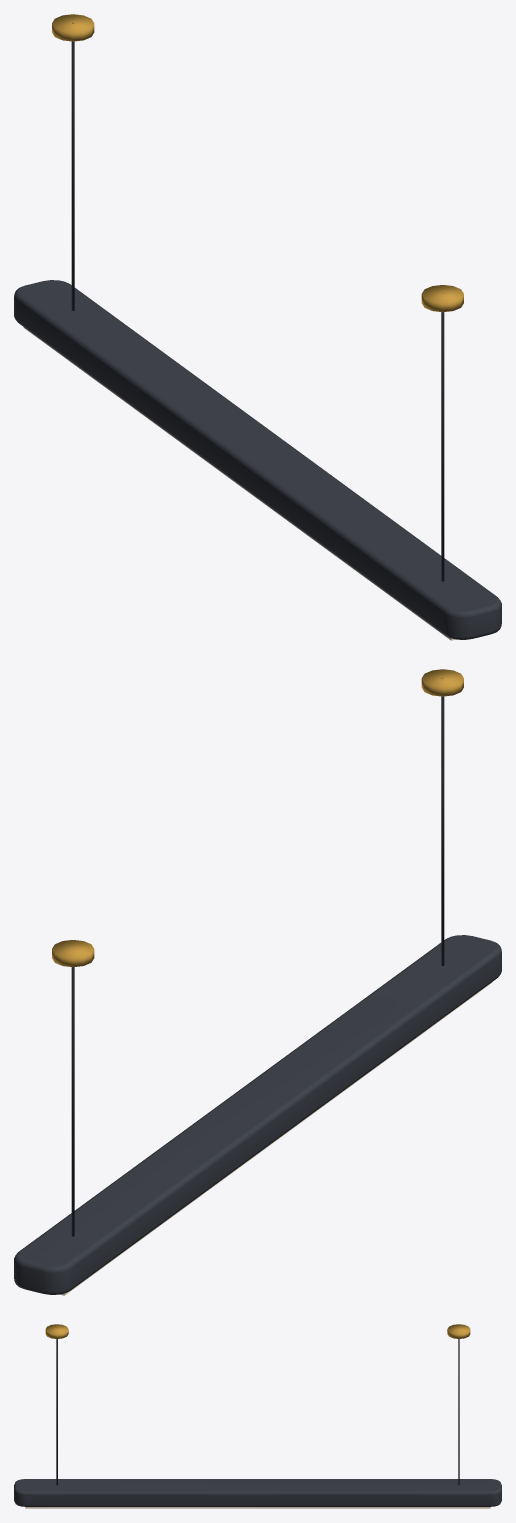
The model's file is RmPendantBar.fbx.
The picture shows the model from 3 angles, top to bottom: view 1: azimuth 30°, elevation 25°; view 2: azimuth 150°, elevation 25°; view 3: azimuth 270°, elevation 25°; orthographic projection. The views are drawn at different scales.
Visible parts, largest first — view 1: RmPendantBarBody; view 2: RmPendantBarBody; view 3: RmPendantBarBody, Glow.
Part boxes in pixels (x1,y1,x2,y2): RmPendantBarBody: (14, 14, 501, 639); RmPendantBarBody: (14, 669, 501, 1294); RmPendantBarBody: (14, 1324, 501, 1506); Glow: (25, 1507, 490, 1508).
Size of the model in its own units: 0.12 by 0.67 by 1.7.
